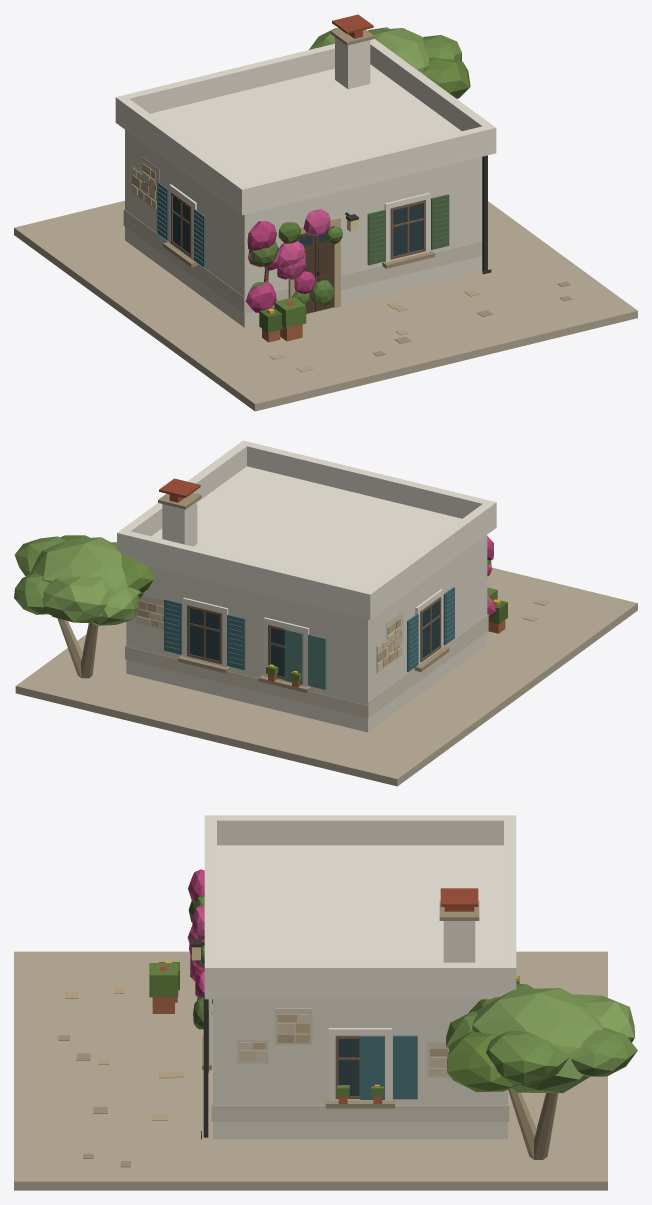
Rendered from ev-badana-dam.glb.
The picture shows the model from 3 angles, top to bottom: view 1: azimuth 30°, elevation 25°; view 2: azimuth 150°, elevation 25°; view 3: azimuth 270°, elevation 25°; orthographic projection. The views are drawn at different scales.
Visible parts, largest first — view 1: zemin, dam, badana, badana3, badana_kir, cam, asma, yesil_kepenk, begonvil, yaprak2, yaprak3, begonvil2 (+8 smaller); view 2: zemin, badana3, badana, dam, yaprak3, badana_kir, kepenk, cam, tas_koyu, yaprak1, kepenk2, ahsap (+3 smaller); view 3: zemin, dam, badana, badana3, yaprak3, badana_kir, yaprak1, asma, tas_koyu, kepenk, cam, demir (+9 smaller).
Boxes of the visible parts, x1,y1,x2,y2 form: zemin: (14, 200, 637, 411); dam: (115, 64, 496, 215); badana: (115, 37, 496, 262); badana3: (125, 130, 482, 327); badana_kir: (123, 157, 488, 313); cam: (173, 196, 423, 256); asma: (274, 57, 470, 328); yesil_kepenk: (367, 194, 449, 265); begonvil: (245, 221, 316, 312); yaprak2: (249, 222, 342, 306); yaprak3: (309, 28, 429, 71); begonvil2: (247, 209, 330, 279); zemin: (15, 567, 637, 786); badana3: (126, 535, 487, 732); badana: (117, 440, 496, 686); dam: (121, 466, 496, 619); yaprak3: (31, 537, 144, 625); badana_kir: (125, 594, 488, 718); kepenk: (164, 587, 454, 672); cam: (189, 601, 439, 676); tas_koyu: (57, 493, 449, 693); yaprak1: (14, 536, 116, 614); kepenk2: (284, 629, 326, 689); ahsap: (187, 597, 441, 683); zemin: (14, 951, 607, 1190); dam: (204, 845, 507, 999); badana: (204, 815, 516, 1100); badana3: (213, 999, 507, 1139); yaprak3: (472, 988, 634, 1093); badana_kir: (211, 1008, 509, 1121); yaprak1: (446, 1011, 637, 1084); asma: (149, 963, 533, 1096); tas_koyu: (58, 900, 558, 1167); kepenk: (360, 1035, 417, 1099); cam: (338, 1039, 359, 1095); demir: (191, 939, 208, 1139).
Bounding box in the file's own units: 11.81 × 5.16 × 12.61.
